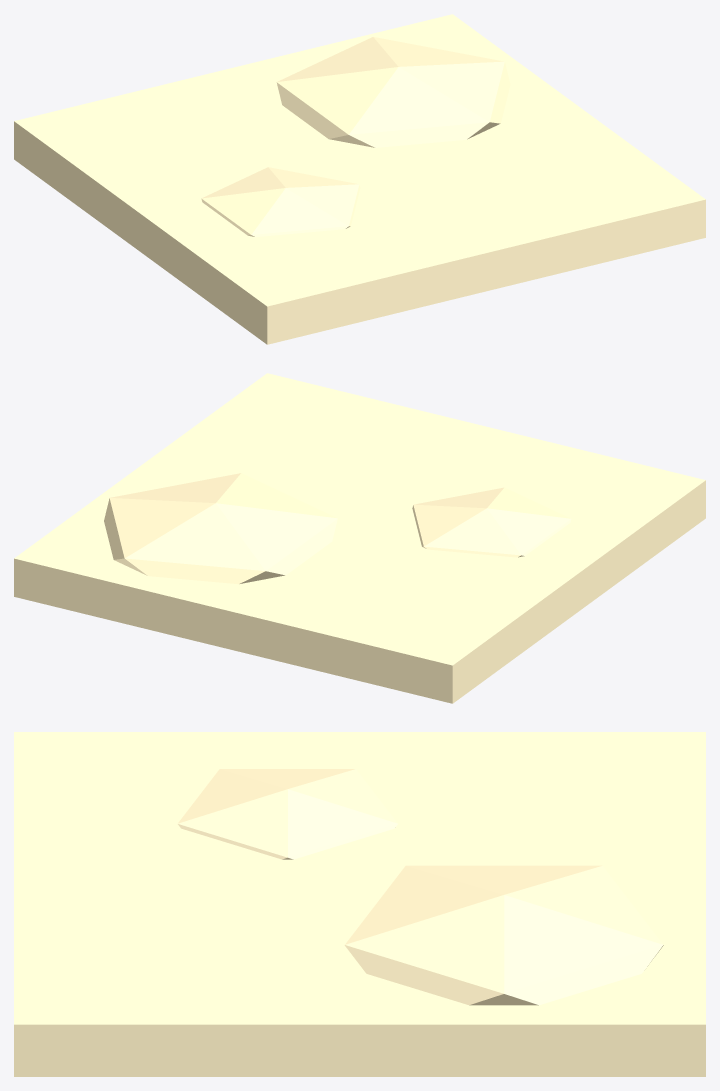
Rendered from beach_sand.glb.
3 renders of one model, top to bottom at view 1: azimuth 30°, elevation 25°; view 2: azimuth 150°, elevation 25°; view 3: azimuth 270°, elevation 25°, orthographic. The views are drawn at different scales.
Parts seen in each view (by area): view 1: beach_sand; view 2: beach_sand; view 3: beach_sand.
Part boxes in pixels (x1,y1,x2,y2): beach_sand: [14, 14, 705, 344]; beach_sand: [14, 373, 705, 703]; beach_sand: [14, 732, 705, 1076].
Size of the model in its own units: 0.96 by 0.156 by 0.96.
